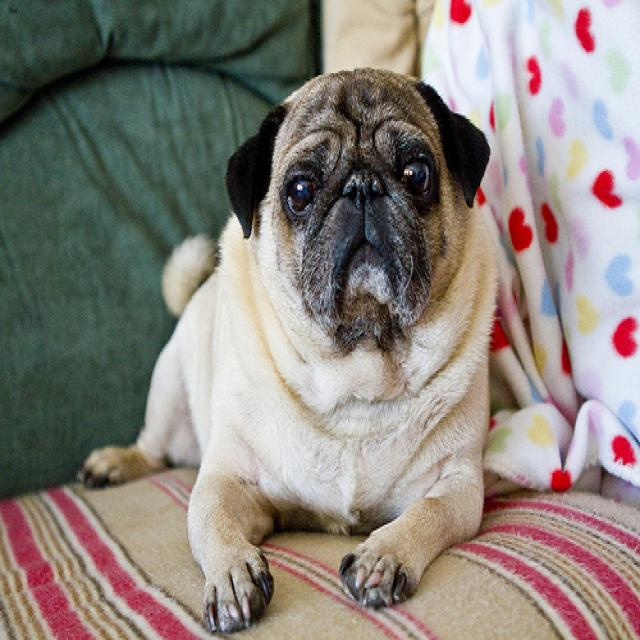dog-pug: (70, 62, 507, 636)
